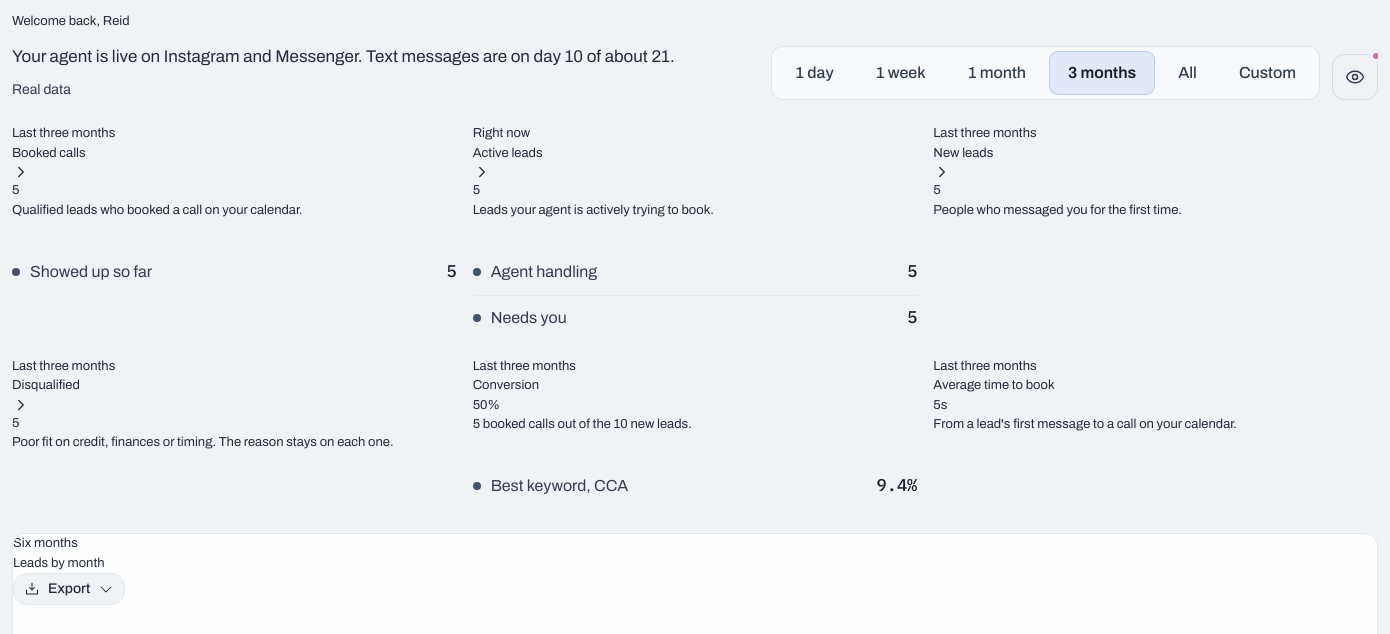
Scenario: CoachDashboard › draws six range stops, five as links that carry the window and Custom as a form
Expected: the element named "Date range" reads "1 day 1 week 1 month 3 months All Custom", [771,46,1320,100]
Click the button "Custom".
click(1267, 73)  # box [1220,51,1315,95]
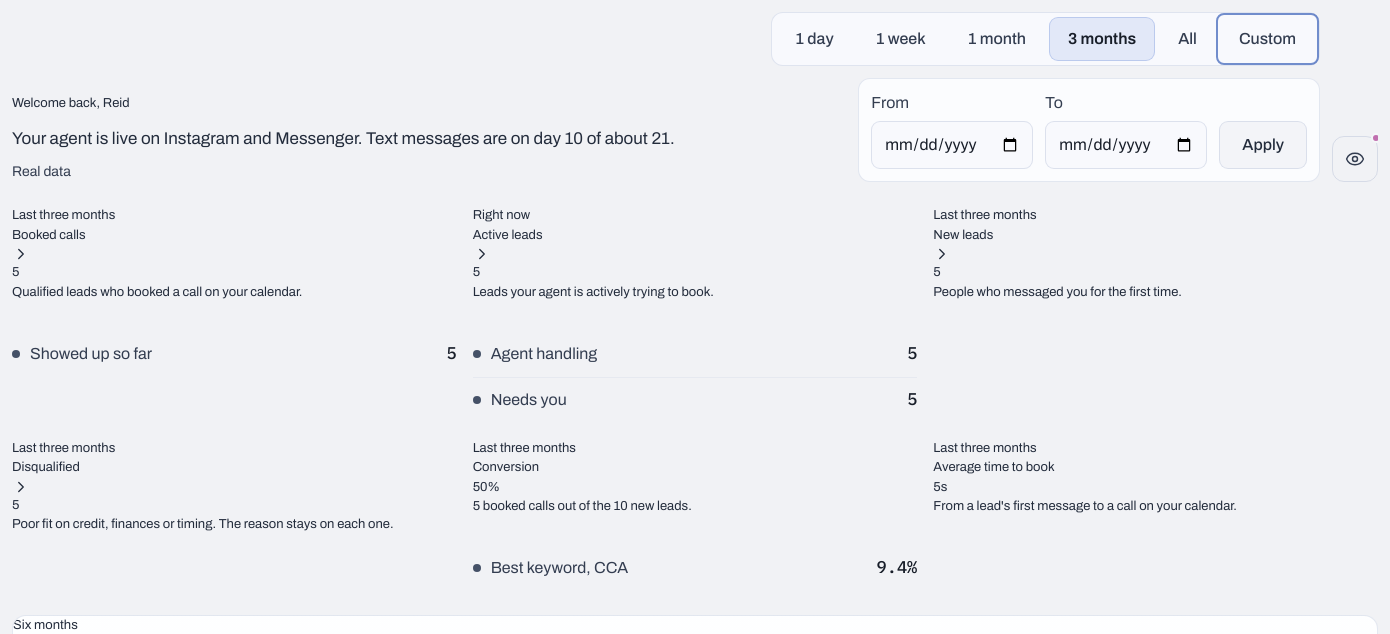
Now the form named "window" holds "custom", box [858,78,1320,182]
